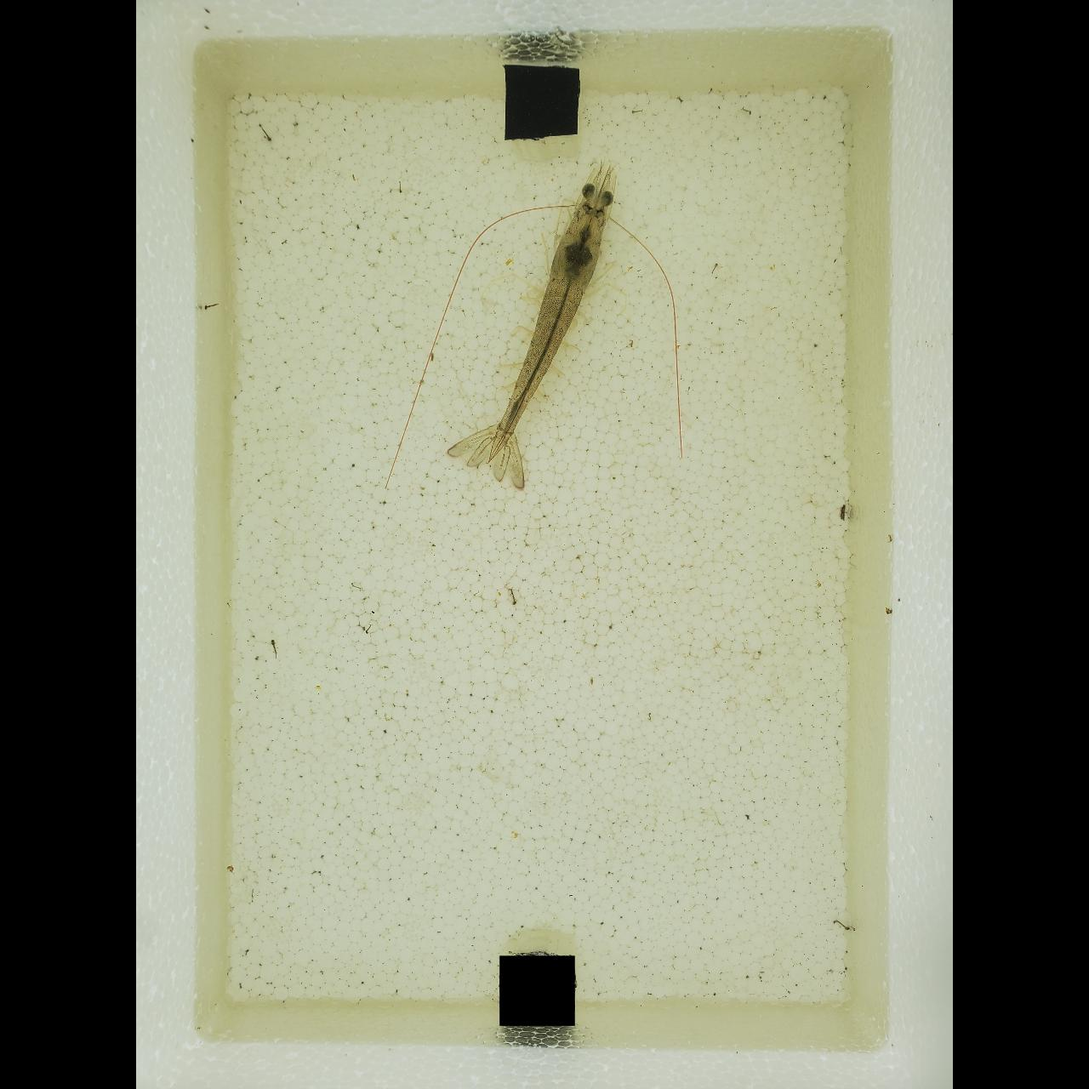box: (501, 66, 583, 143), (499, 955, 576, 1032)
top_shrimp: (489, 203, 609, 468)
